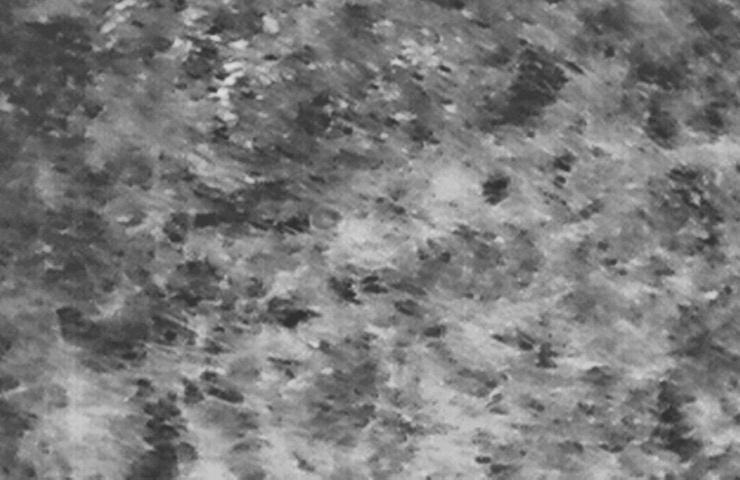landmines: (307, 201, 351, 236)
